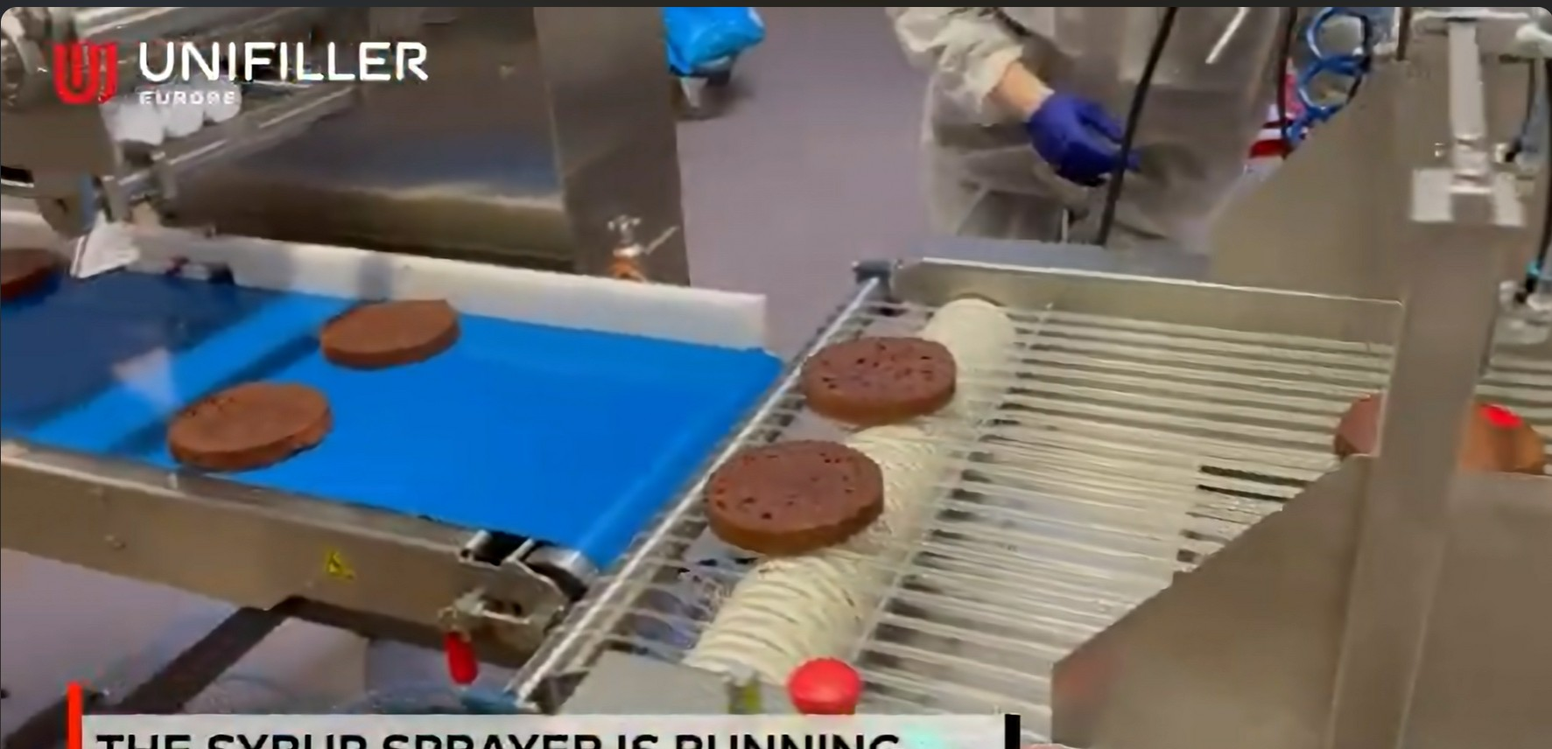Chocolate Cake: (704, 444, 885, 552), (1336, 381, 1546, 473), (165, 380, 333, 467), (794, 335, 959, 418), (319, 297, 461, 369), (0, 242, 67, 301)
